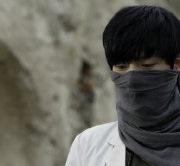OK: (109, 55, 174, 120)
